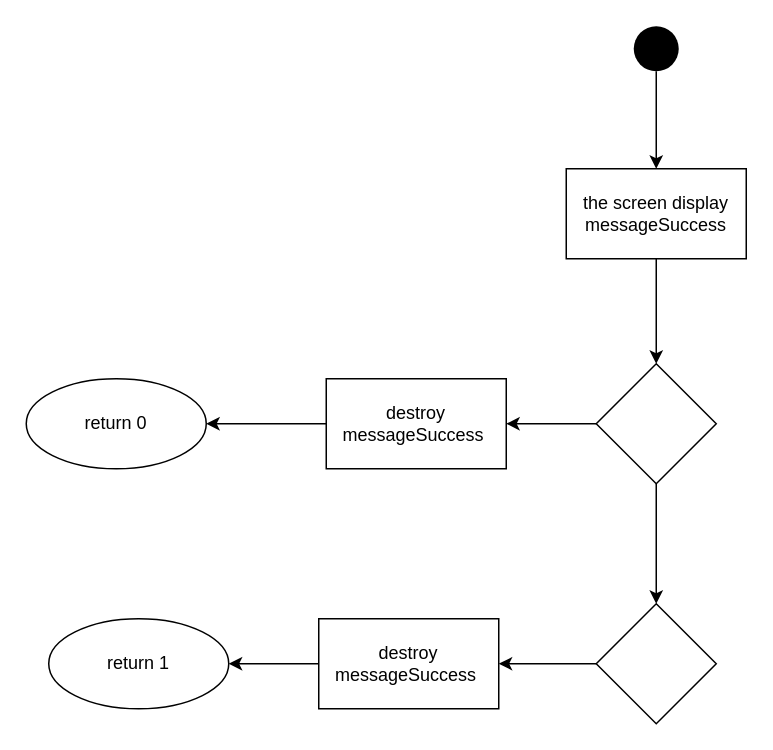
Image size: 773x750. Some labels were removed from this diagram. Here are the shapes that lost their labels. From the top down, the centre of each, then its label:
the point at 655,423: Click close button
the point at 655,663: Click okBUtton
